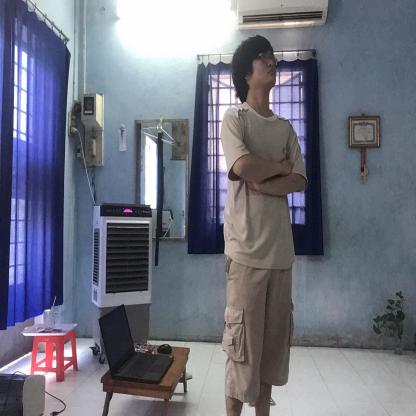person: (216, 32, 312, 415)
